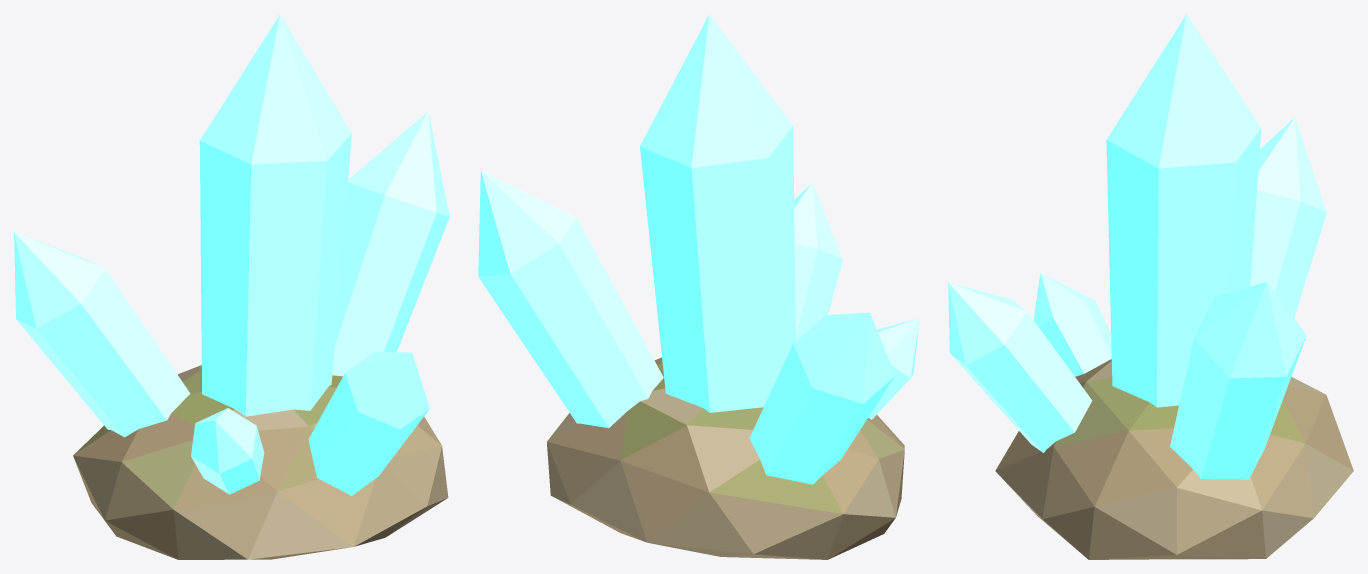
The model's file is crystal_cluster.glb.
3 renders of one model, left to right at view 1: azimuth 30°, elevation 25°; view 2: azimuth 150°, elevation 25°; view 3: azimuth 270°, elevation 25°, orthographic.
Visible parts, largest first — view 1: CrystalCluster; view 2: CrystalCluster; view 3: CrystalCluster.
Part boxes in pixels (x1,y1,x2,y2): CrystalCluster: [14, 14, 449, 559]; CrystalCluster: [478, 14, 919, 559]; CrystalCluster: [948, 14, 1353, 559].
Size of the model in its own units: 0.4519 by 0.5093 by 0.3852.
